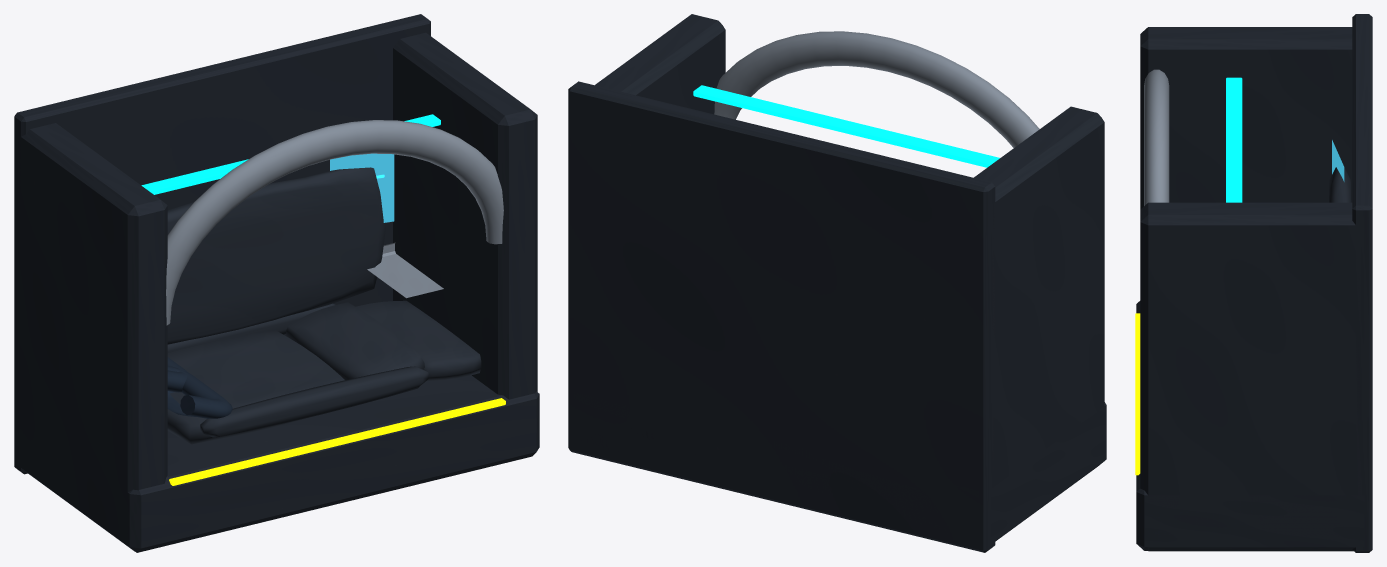
Rendered from bunk_r1_10.glb.
The picture shows the model from 3 angles, left to right: view 1: azimuth 30°, elevation 25°; view 2: azimuth 150°, elevation 25°; view 3: azimuth 270°, elevation 25°; orthographic projection. The views are drawn at different scales.
Visible parts, largest first — view 1: CommandPod_GunmetalBulkheadBay, CommandPod_ErgonomicCommandCouch, CommandPod_SweepingTitaniumArch, CommandPod_AmberDeckStrip, CommandPod_DualCranialCradles, CommandPod_TwinOLEDStatusWings, CommandPod_CyanCoveStrip; view 2: CommandPod_GunmetalBulkheadBay, CommandPod_SweepingTitaniumArch, CommandPod_CyanCoveStrip; view 3: CommandPod_GunmetalBulkheadBay, CommandPod_SweepingTitaniumArch, CommandPod_CyanCoveStrip, CommandPod_AmberDeckStrip, CommandPod_ErgonomicCommandCouch.
Part boxes in pixels (left/top/right/bottom): CommandPod_GunmetalBulkheadBay: left=14, top=14, right=539, bottom=552; CommandPod_ErgonomicCommandCouch: left=167, top=167, right=481, bottom=444; CommandPod_SweepingTitaniumArch: left=166, top=120, right=503, bottom=325; CommandPod_AmberDeckStrip: left=169, top=398, right=505, bottom=485; CommandPod_DualCranialCradles: left=167, top=357, right=232, bottom=418; CommandPod_TwinOLEDStatusWings: left=330, top=153, right=394, bottom=222; CommandPod_CyanCoveStrip: left=141, top=114, right=440, bottom=194; CommandPod_GunmetalBulkheadBay: left=568, top=14, right=1106, bottom=552; CommandPod_SweepingTitaniumArch: left=714, top=31, right=1039, bottom=147; CommandPod_CyanCoveStrip: left=693, top=85, right=999, bottom=167; CommandPod_GunmetalBulkheadBay: left=1136, top=14, right=1372, bottom=552; CommandPod_SweepingTitaniumArch: left=1144, top=69, right=1169, bottom=205; CommandPod_CyanCoveStrip: left=1226, top=77, right=1242, bottom=202; CommandPod_AmberDeckStrip: left=1135, top=313, right=1140, bottom=475; CommandPod_ErgonomicCommandCouch: left=1329, top=167, right=1351, bottom=202.
Size of the model in its own units: 2.26 by 1.96 by 1.16.
Materials: 7 (7 with a texture image).
